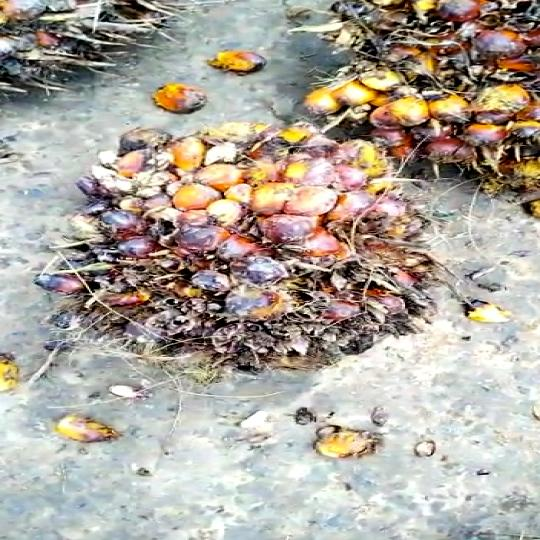masak: (56, 117, 444, 372)
